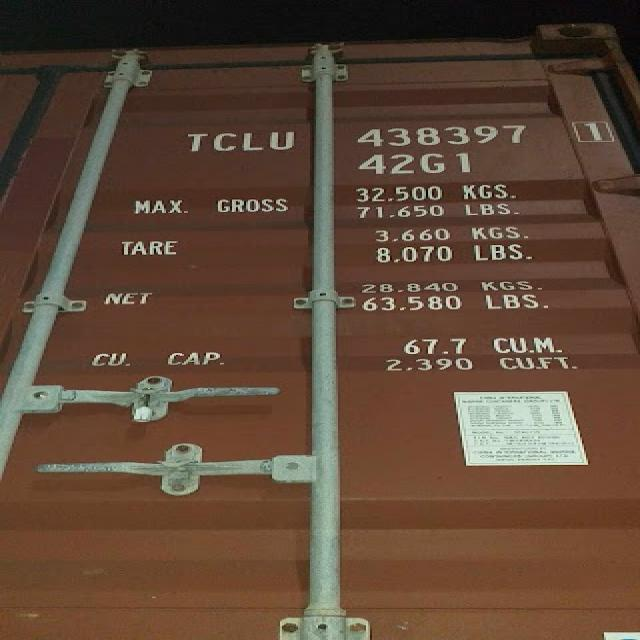ISO: (352, 143, 481, 182)
container_number: (184, 119, 616, 149)
